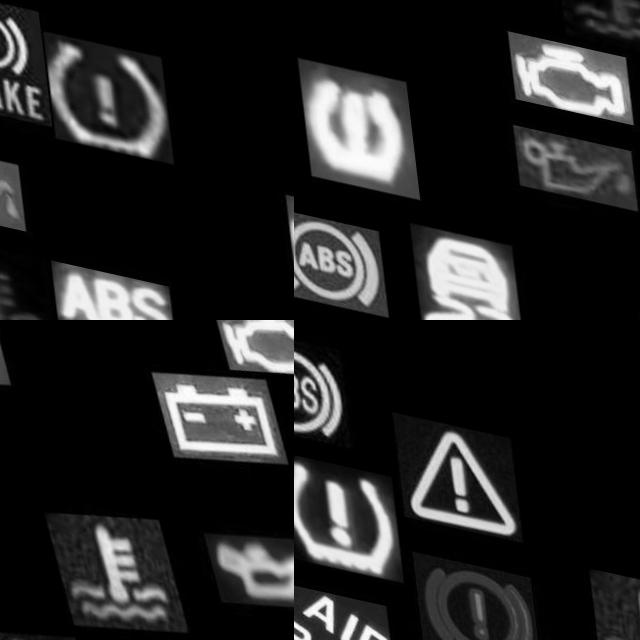Central Warning lamp: (390, 399, 518, 524)
Engine cooling system: (36, 482, 182, 634), (583, 546, 640, 640), (0, 229, 47, 320), (551, 0, 640, 39)
